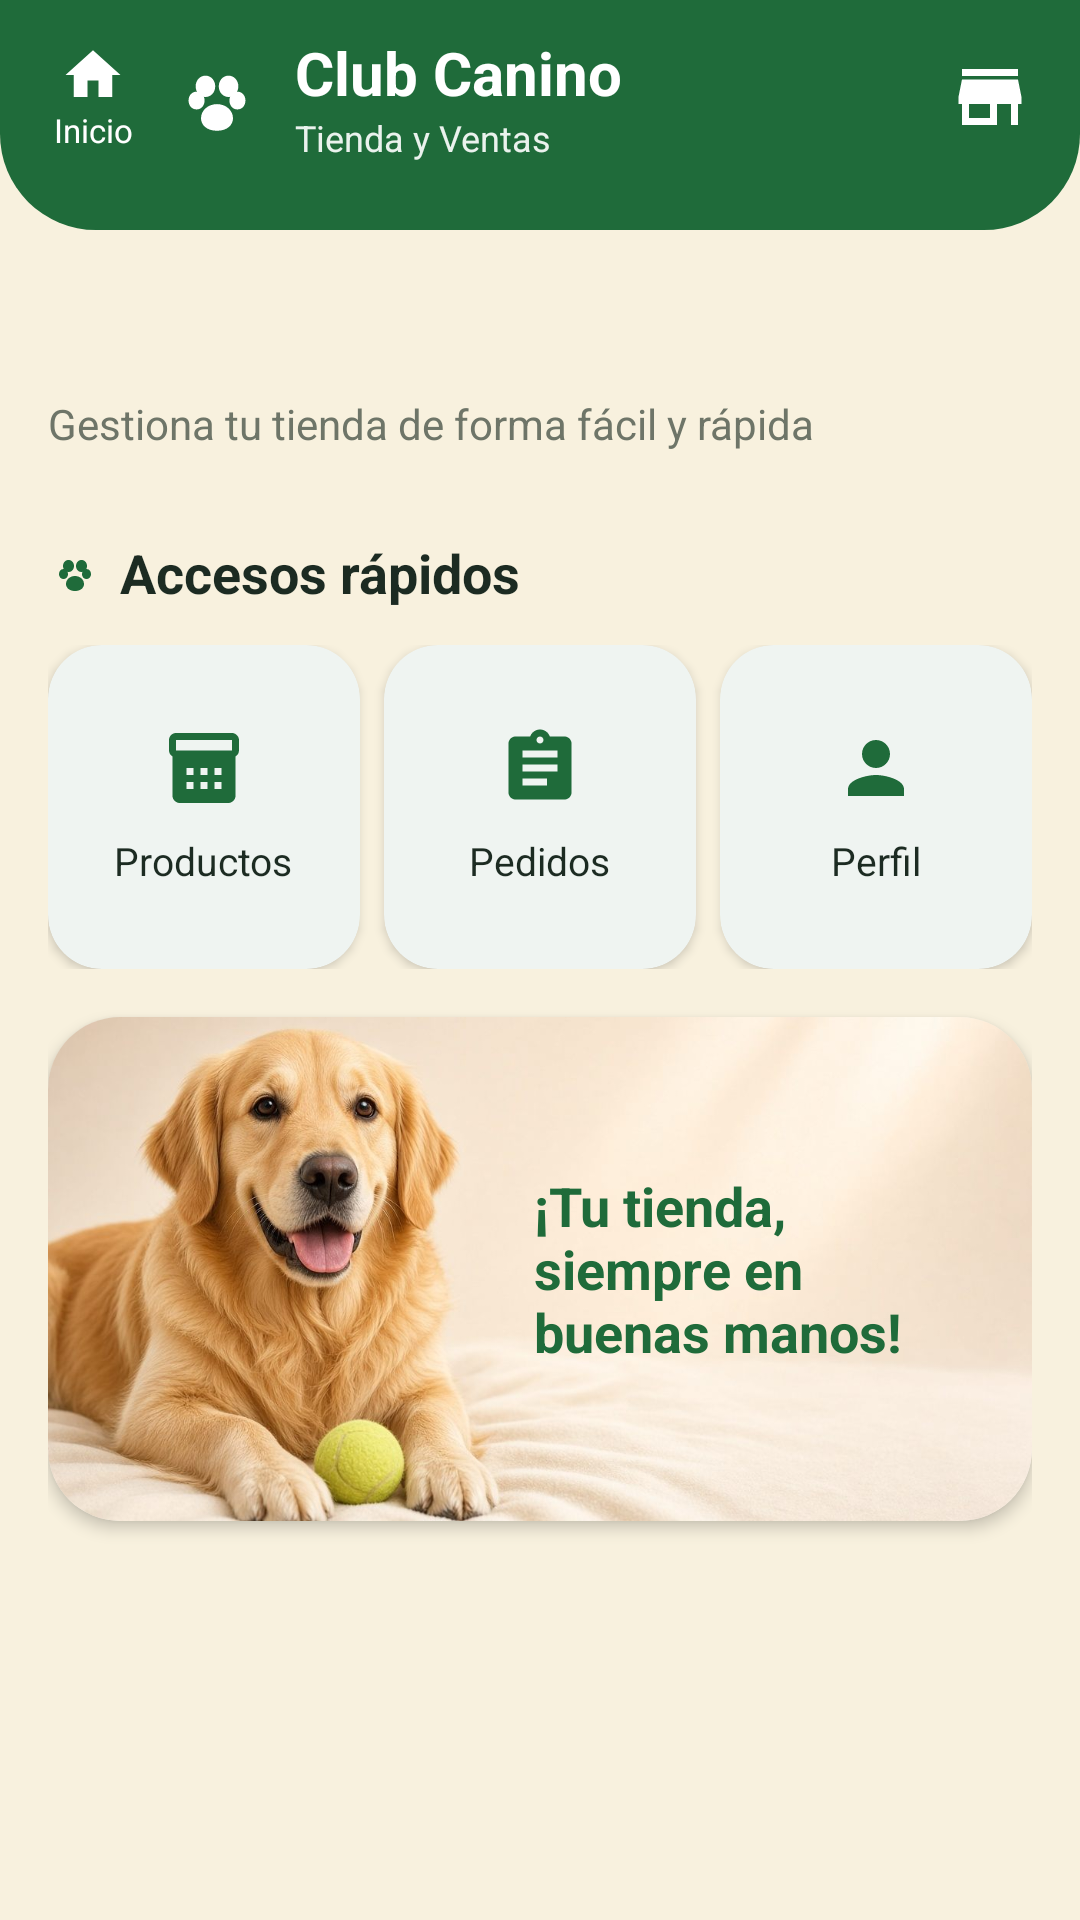

Locate icon controls on the screen. Image size 1080px x 1920px, boxes as rect(x1, y1, x2, y2).
clipboard: rect(508, 729, 572, 800)
paw: rect(188, 75, 246, 131), rect(59, 560, 91, 591)
profile: rect(848, 740, 904, 796)
store: rect(958, 69, 1022, 125)
